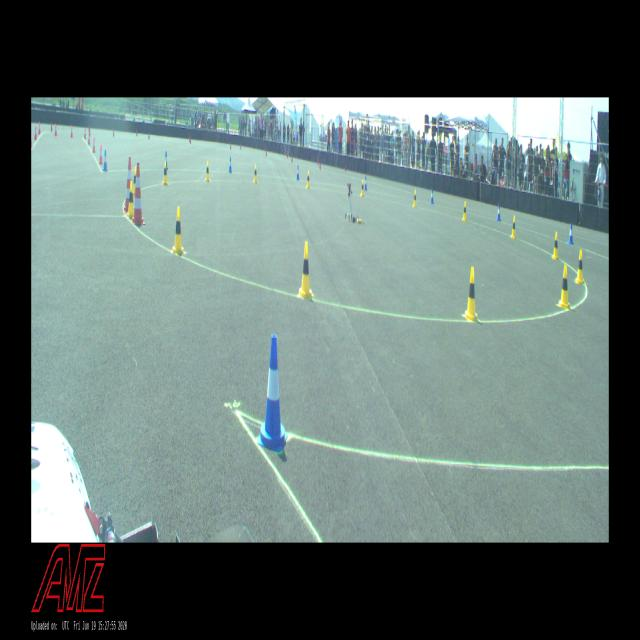blue_cone: (257, 333, 288, 454), (102, 149, 108, 172), (568, 222, 573, 245), (496, 203, 501, 221), (363, 176, 368, 190), (164, 152, 168, 168), (360, 180, 364, 196), (229, 157, 232, 173), (296, 166, 299, 180), (431, 188, 433, 204)
large_orange_cone: (132, 162, 144, 225), (124, 156, 132, 212)
orange_cone: (510, 216, 516, 238), (98, 144, 103, 165), (92, 137, 96, 154), (34, 124, 38, 140), (38, 122, 41, 136), (54, 123, 56, 136), (71, 125, 73, 138), (88, 132, 90, 145), (84, 127, 86, 139)
yellow_cone: (298, 242, 313, 298), (463, 269, 478, 320), (172, 206, 184, 255), (559, 264, 569, 309), (576, 249, 584, 285), (127, 180, 134, 218), (552, 232, 558, 258), (162, 161, 168, 185), (204, 160, 210, 182), (305, 170, 311, 190), (133, 166, 136, 198), (253, 164, 258, 183), (412, 190, 417, 207), (462, 202, 467, 218), (360, 180, 364, 196)
